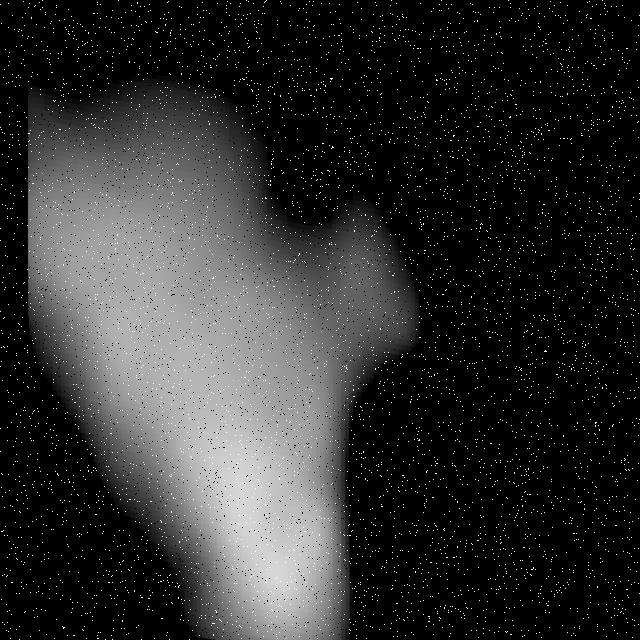person: (1, 1, 459, 640)
